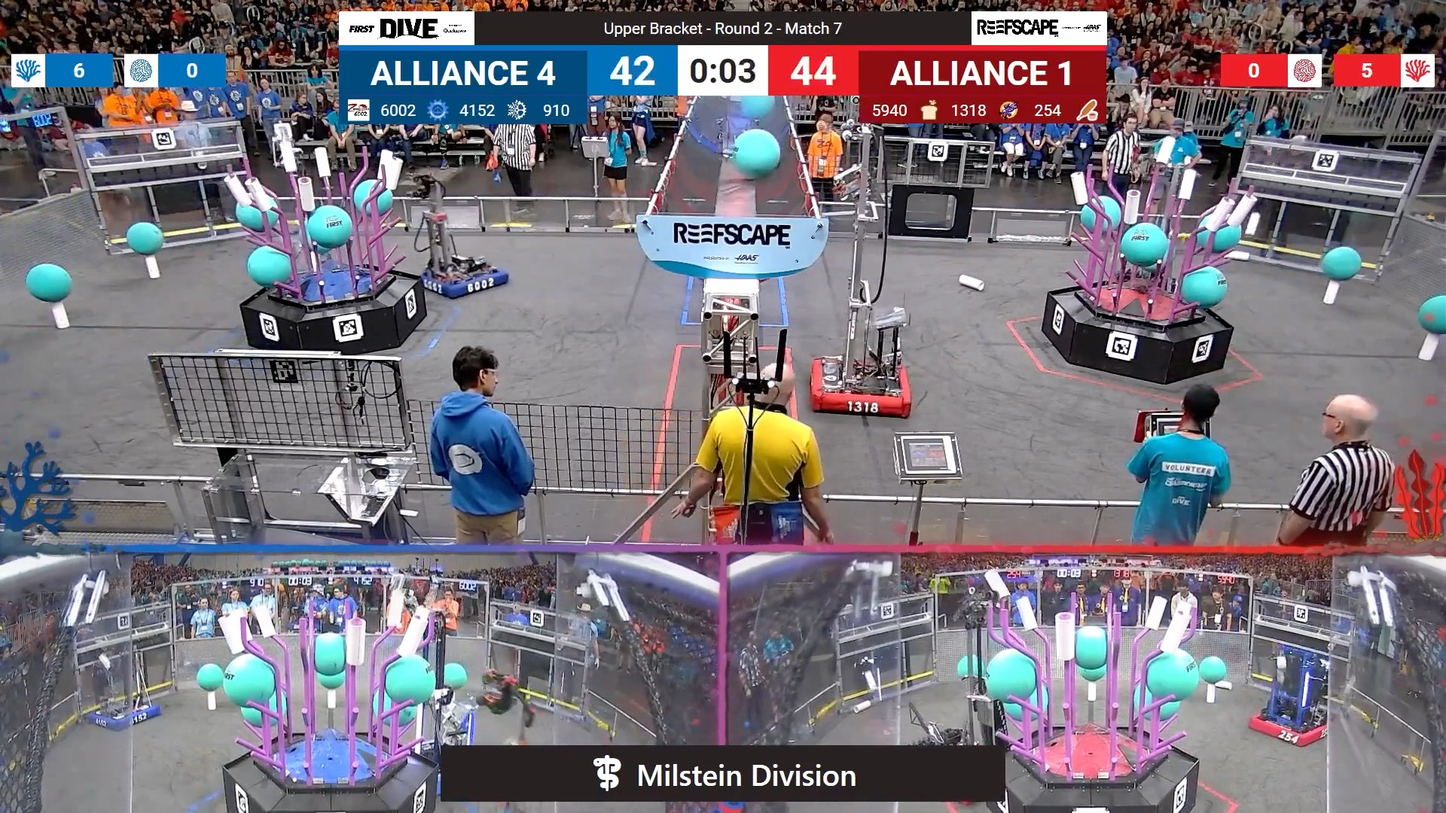bumpers: (801, 357, 925, 424), (410, 258, 516, 299), (1242, 702, 1334, 749), (79, 701, 164, 736)
